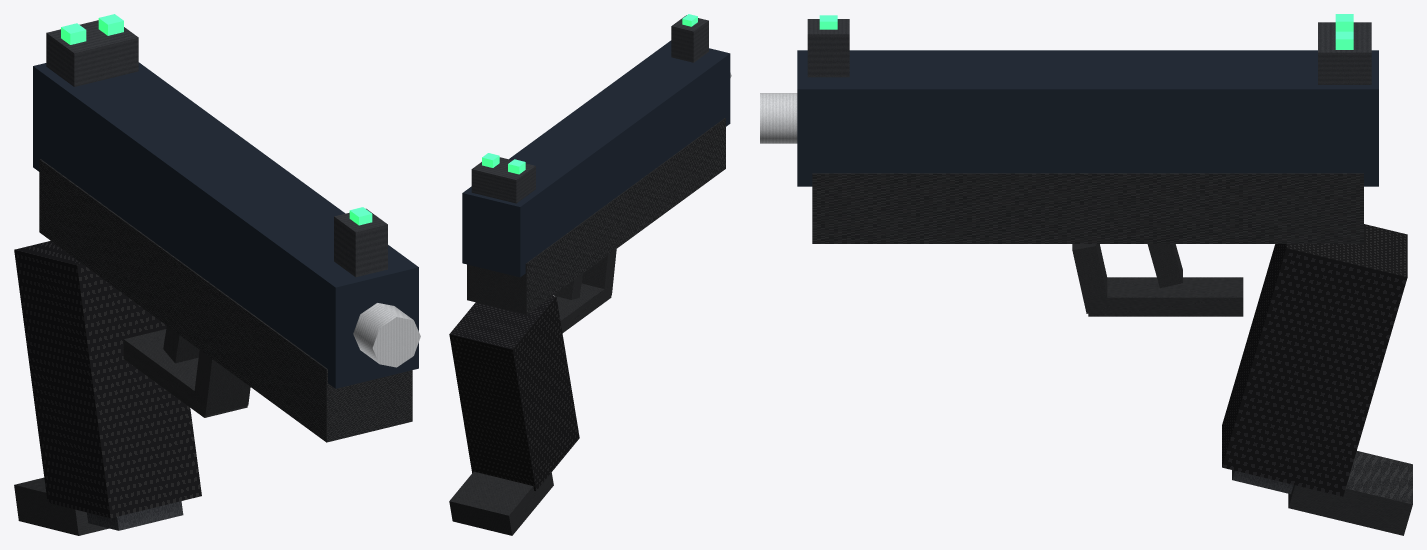
File: glock.glb
The picture shows the model from 3 angles, left to right: view 1: azimuth 30°, elevation 25°; view 2: azimuth 150°, elevation 25°; view 3: azimuth 270°, elevation 25°; orthographic projection. The views are drawn at different scales.
Parts seen in each view (by area): view 1: weapon_glock, SlideNode, MagazineNode; view 2: weapon_glock, SlideNode, MagazineNode; view 3: weapon_glock, SlideNode, MagazineNode.
Part boxes in pixels (x1,y1,x2,y2): weapon_glock: (14, 159, 412, 518); SlideNode: (33, 14, 420, 388); MagazineNode: (14, 477, 183, 535); weapon_glock: (449, 118, 725, 490); SlideNode: (462, 14, 731, 277); MagazineNode: (449, 471, 553, 535); weapon_glock: (812, 173, 1407, 496); SlideNode: (760, 14, 1378, 186); MagazineNode: (1232, 451, 1412, 535).
Size of the model in its own units: 0.034 by 0.1839 by 0.2189.
6 materials, 4 textured.
